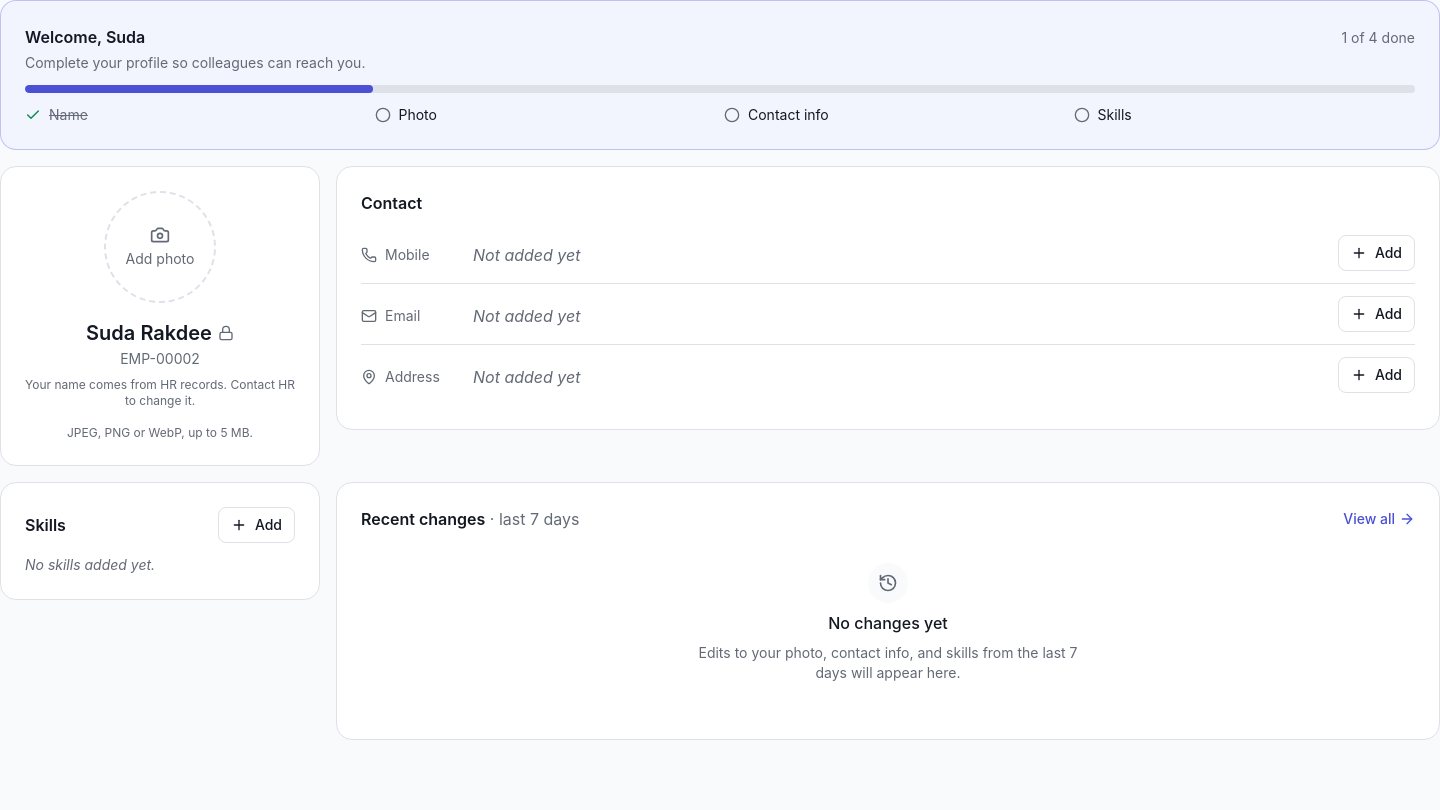
Test case: ProfilePage › checks the email format before sending
Later steps or results of the test are not shown.
Click the button with aria-label "Add email". click: [1376, 314]
box: [1338,296,1415,332]
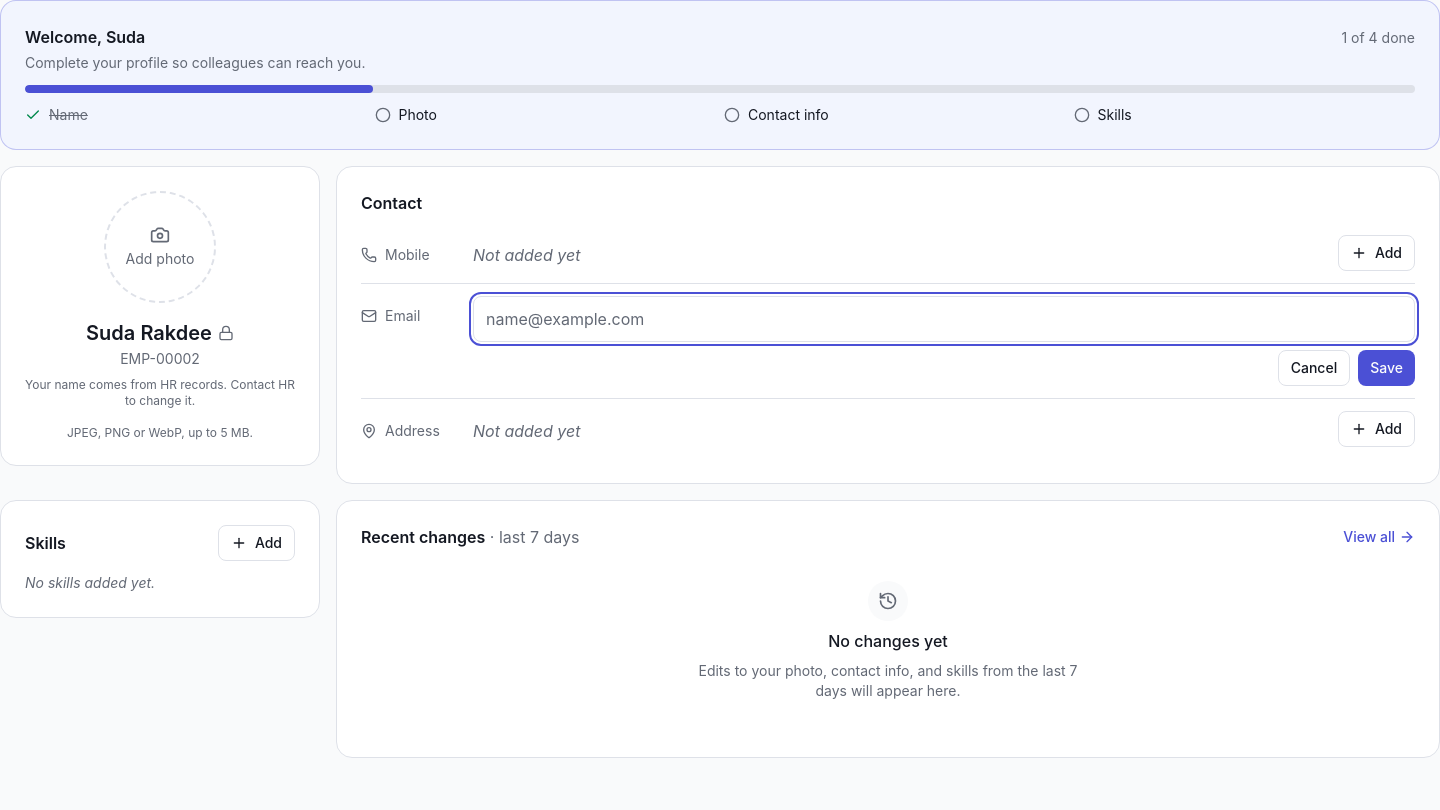
Type "somchai" into the field named "Email". click: [944, 319]
box: [473,296,1415,342]
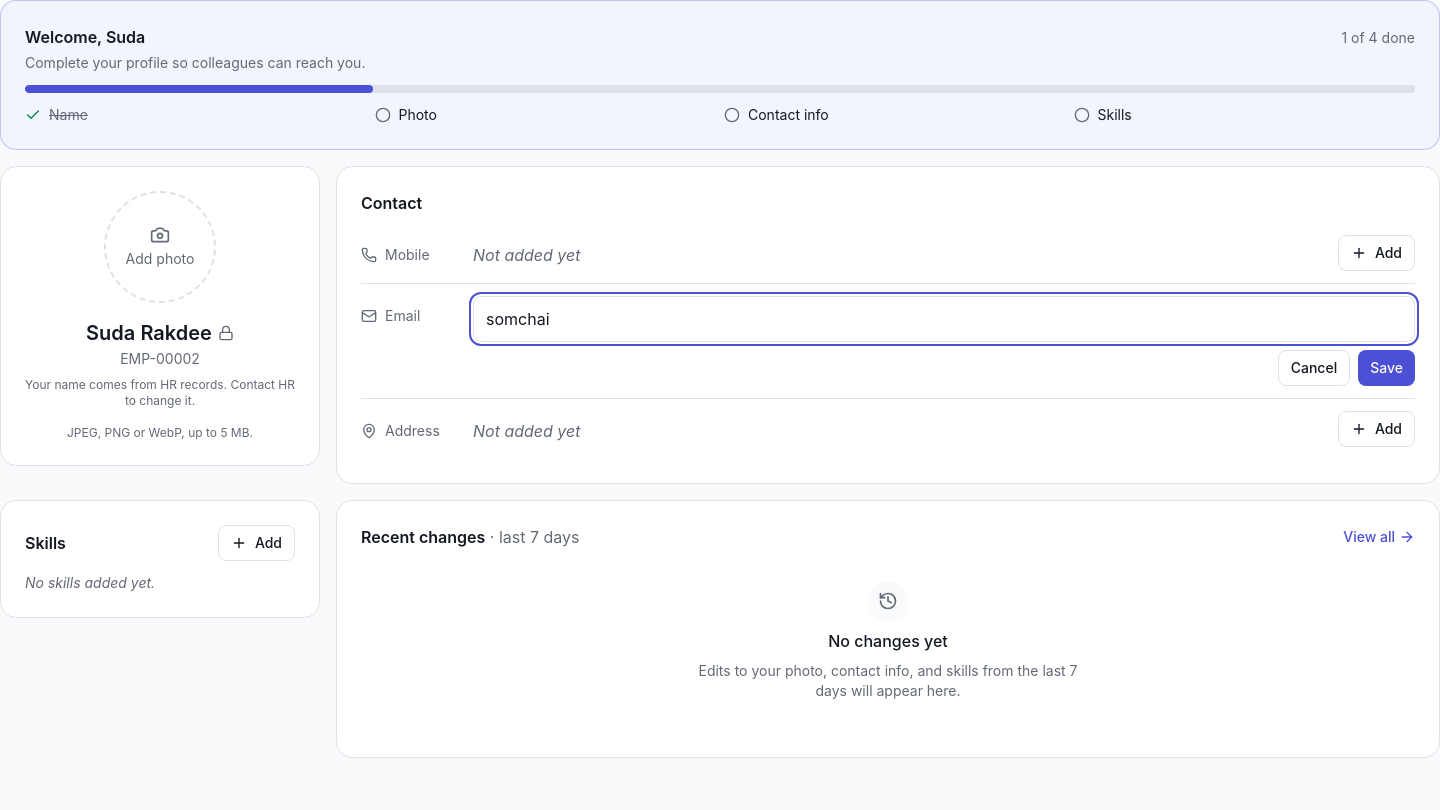
Click the button "Save". click: [1387, 368]
box: [1358,350,1415,386]
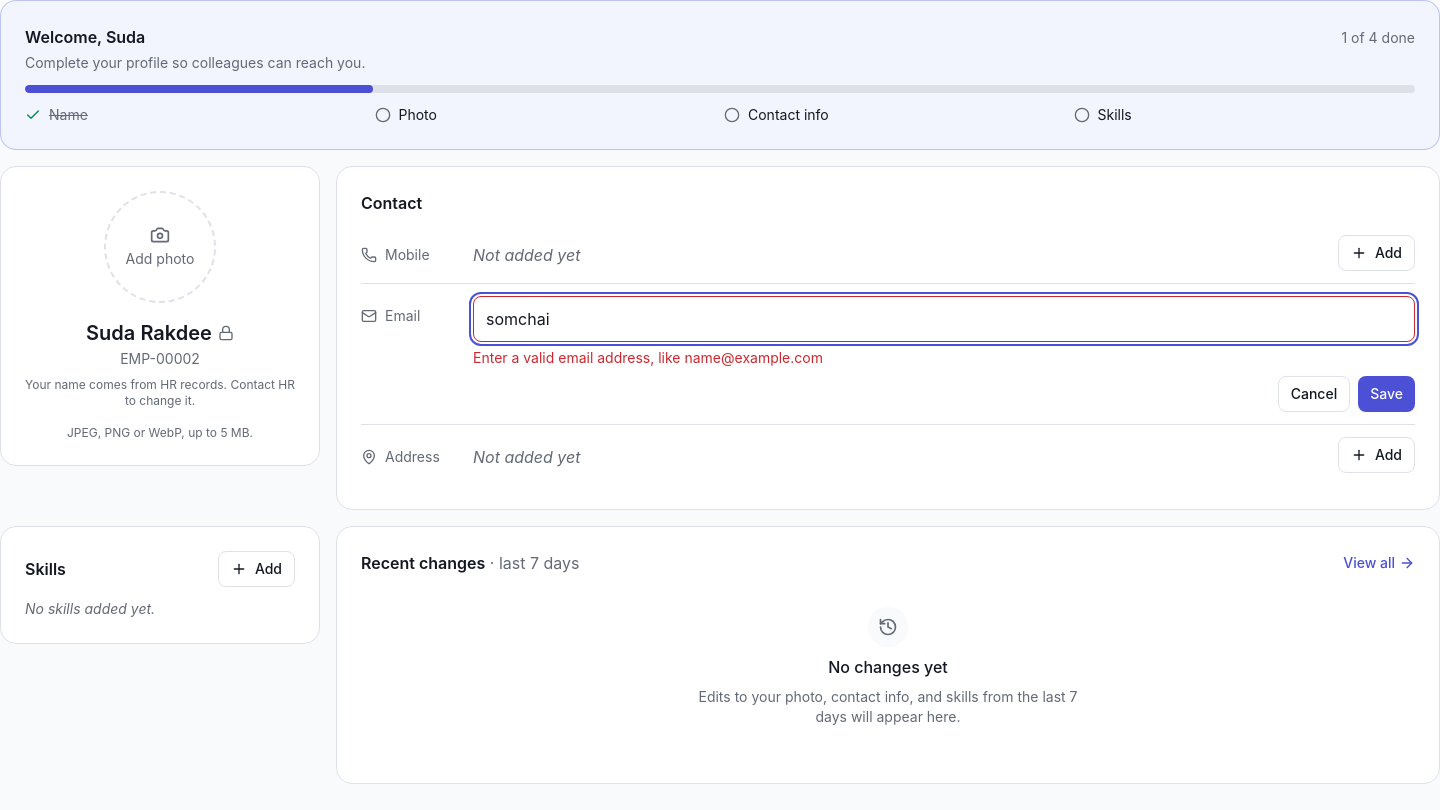
Result: the text "Enter a valid email address, like name@example.com" is shown at [473,349,823,366]
Replace the text in the field named "Email" with "somchai@example". click: [944, 319]
box: [473,296,1415,342]
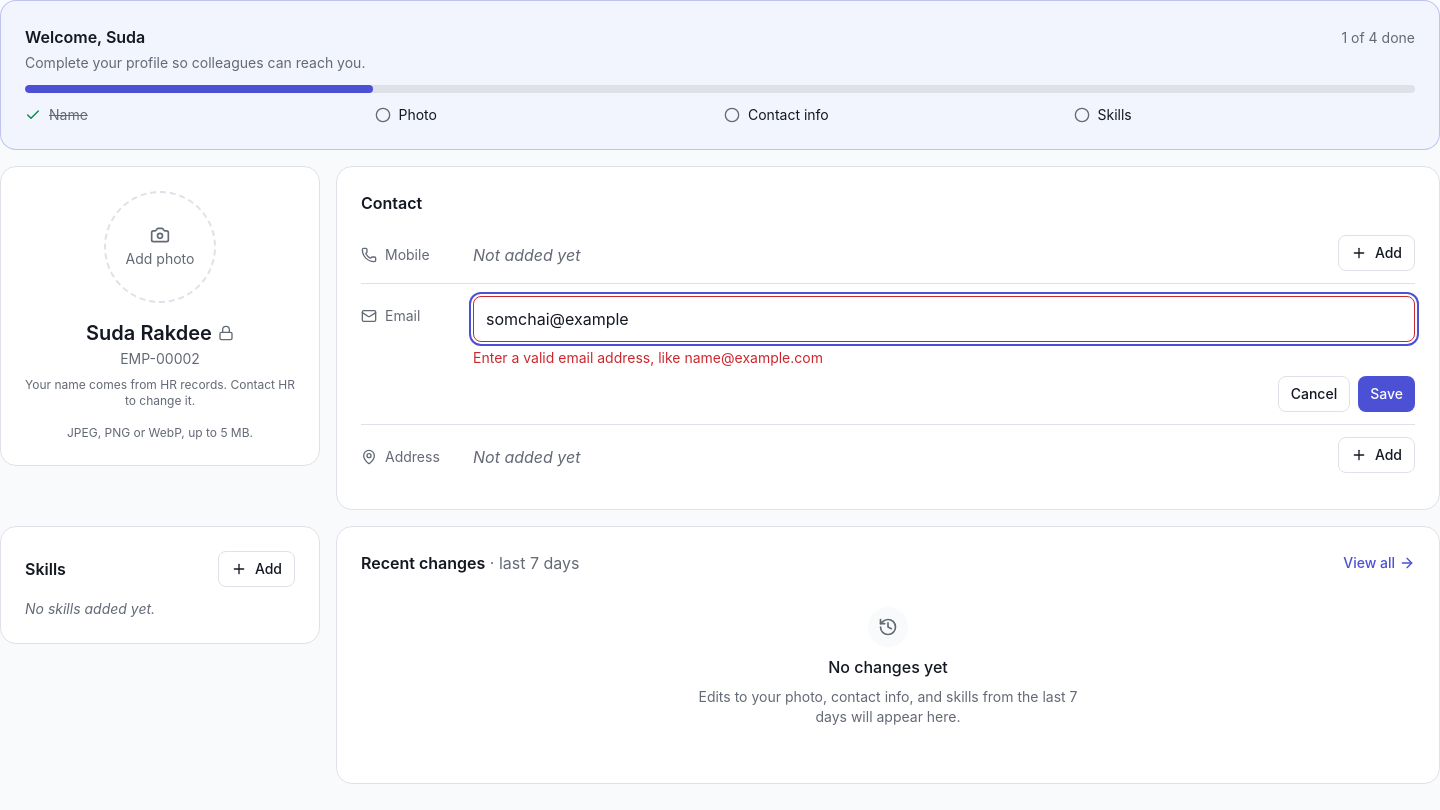
Click the button "Save". click: [1387, 394]
box: [1358,376,1415,412]
Result: the text "Enter a valid email address, like name@example.com" is shown at [473,349,823,366]
Replace the text in the field named "Email" with "som..chai@example.com". click: [944, 319]
box: [473,296,1415,342]
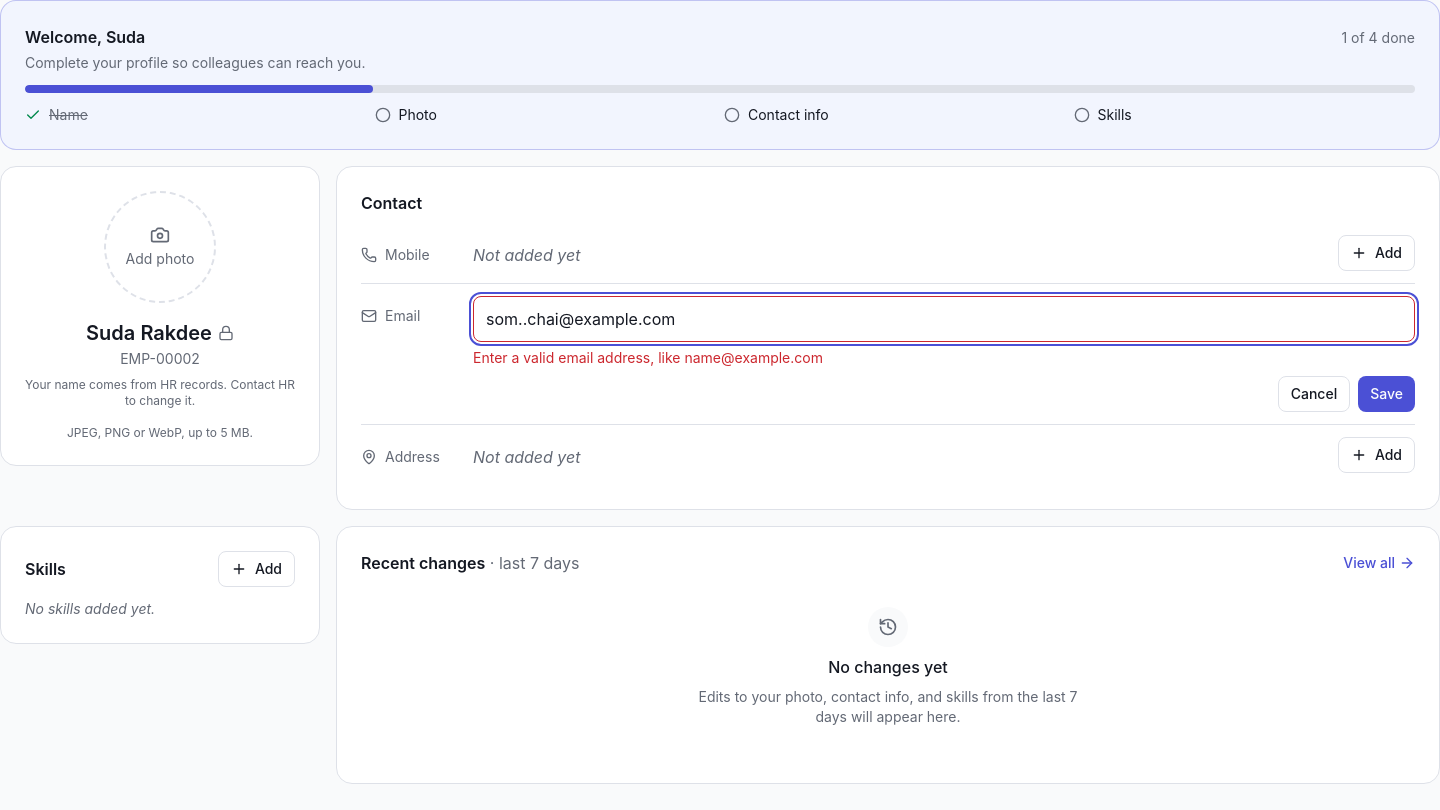
Click the button "Save". click: [1387, 394]
box: [1358,376,1415,412]
Result: the text "Enter a valid email address, like name@example.com" is shown at [473,349,823,366]
